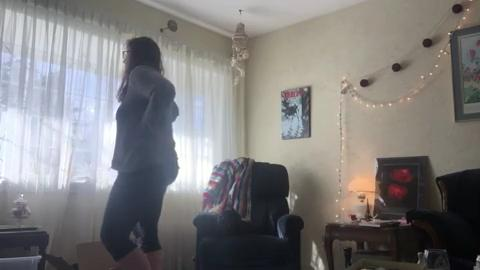blanket: (200, 157, 253, 222)
light: (333, 1, 475, 224), (347, 176, 379, 219)
person: (100, 37, 179, 269)
picture: (374, 156, 426, 220), (447, 24, 479, 121), (279, 86, 311, 138)
sofa_couch: (192, 162, 304, 270), (406, 168, 479, 269)
table_desk: (324, 223, 428, 269), (1, 223, 49, 269)
